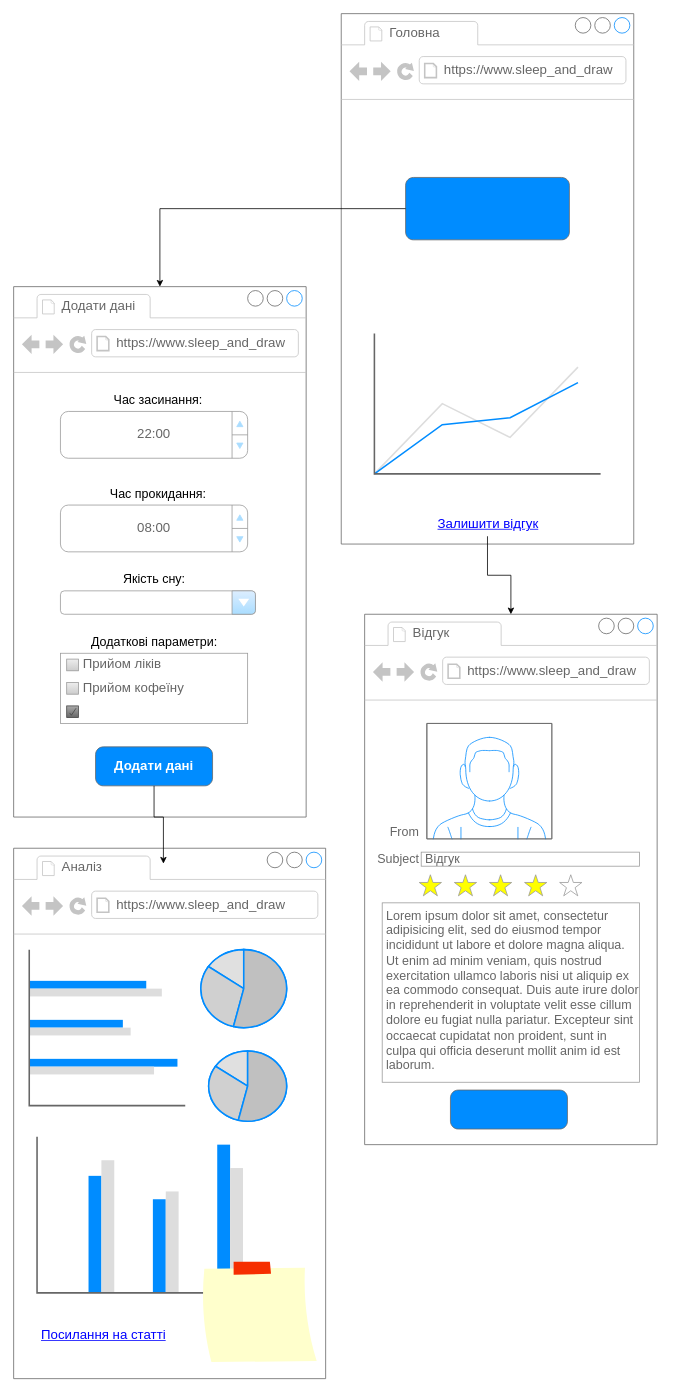
Image size: 675x1392. Some labels were removed from this diagram. The shapes that lost their labels are listed below. From the top down, each one's centre as x and y in pixels, then its label:
[487,199]: Додати дані про сон
[487,220]: Дата
[157,602]: Добре
[72,711]: Прийом алкоголю
[508,1109]: Надіслати
[259,1312]: Поради
